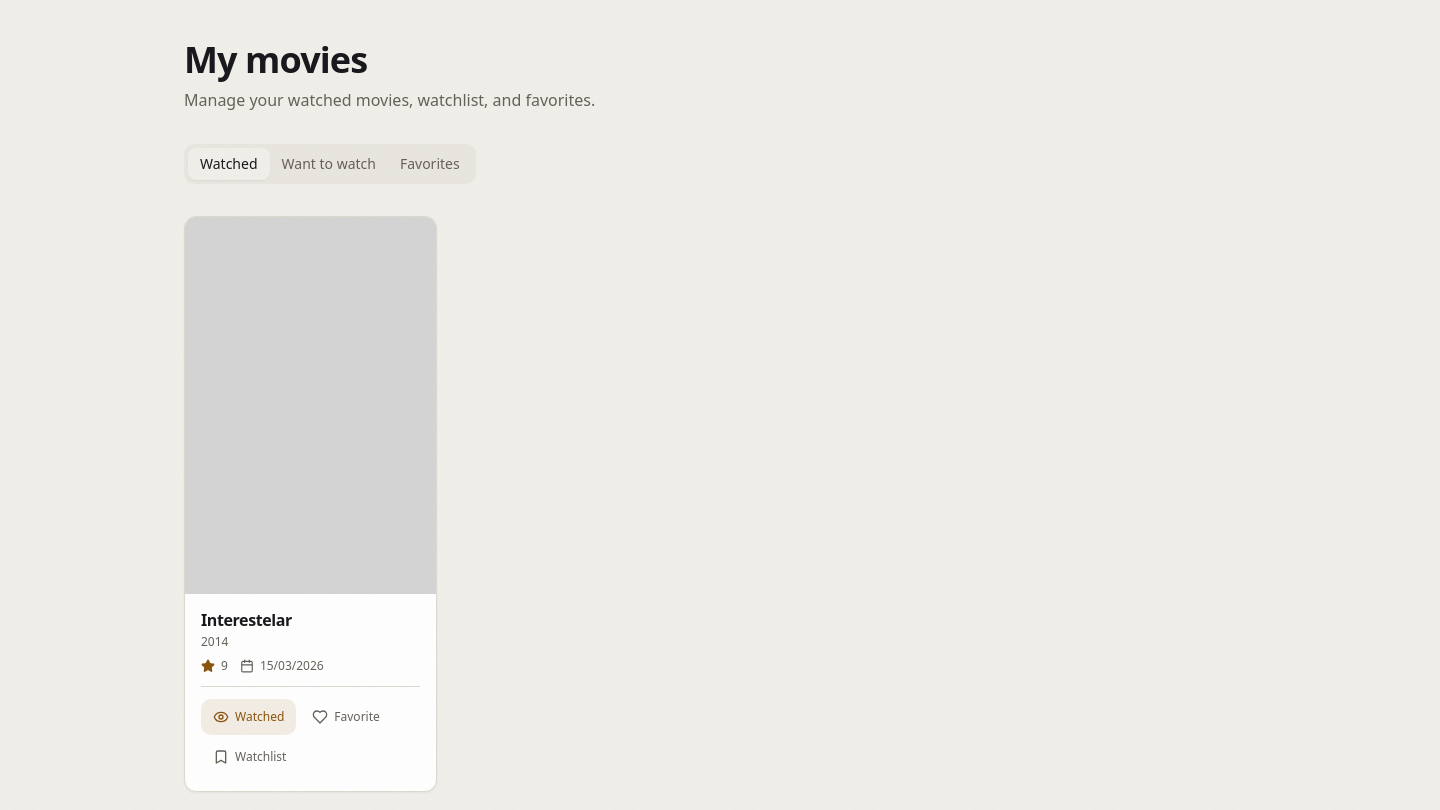
MyMoviesPage › usuário autenticado › REQ-5 edge: deletar na aba Assistidos mantém o card e mostra Undo
The width and height of the screenshot is (1440, 810).
Expected: the text "Interestelar" is shown, [201,608,292,630]
Click the button "Watched" at (249, 716), box [201,698,296,734]
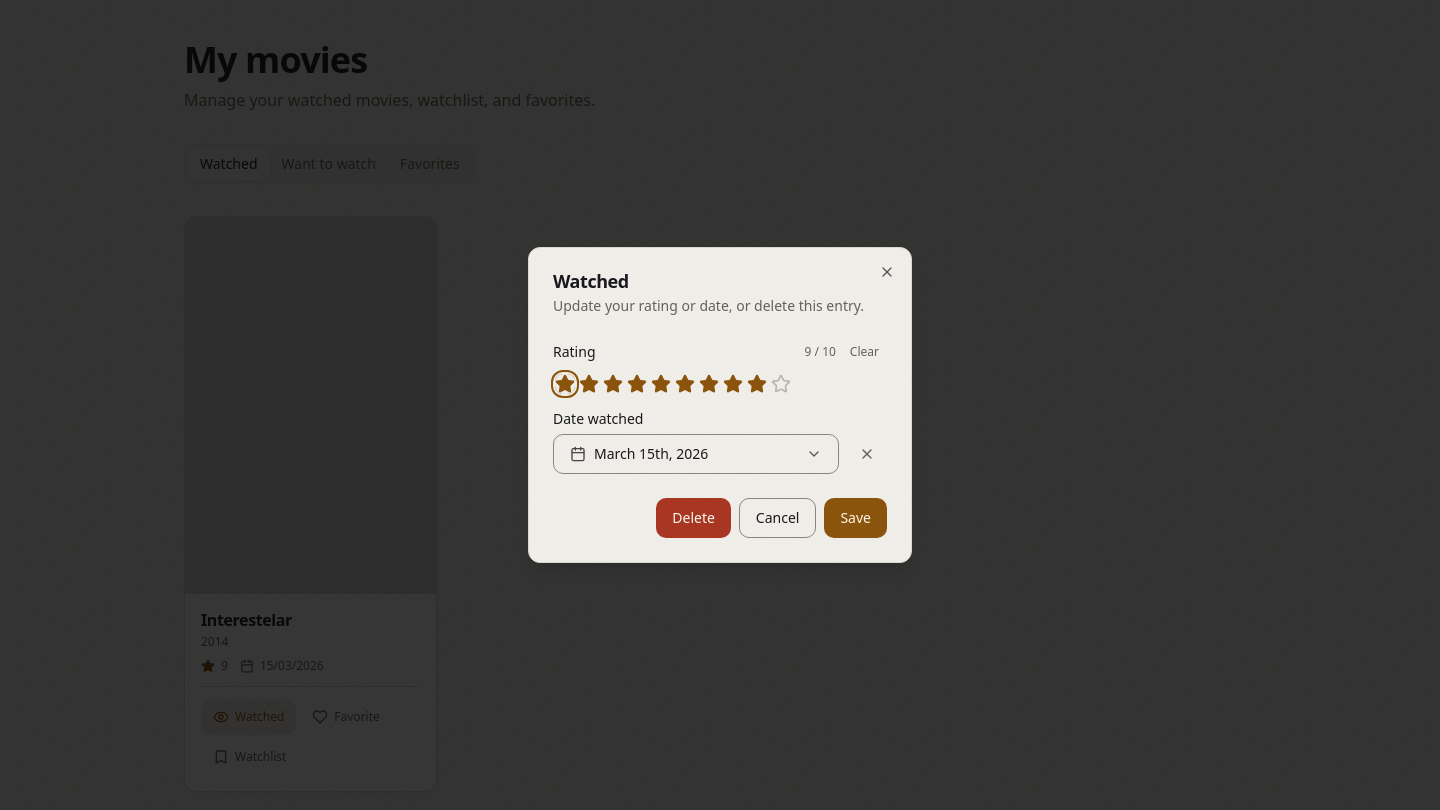
Click the button "Delete" at (694, 518), box [656,498,731,538]
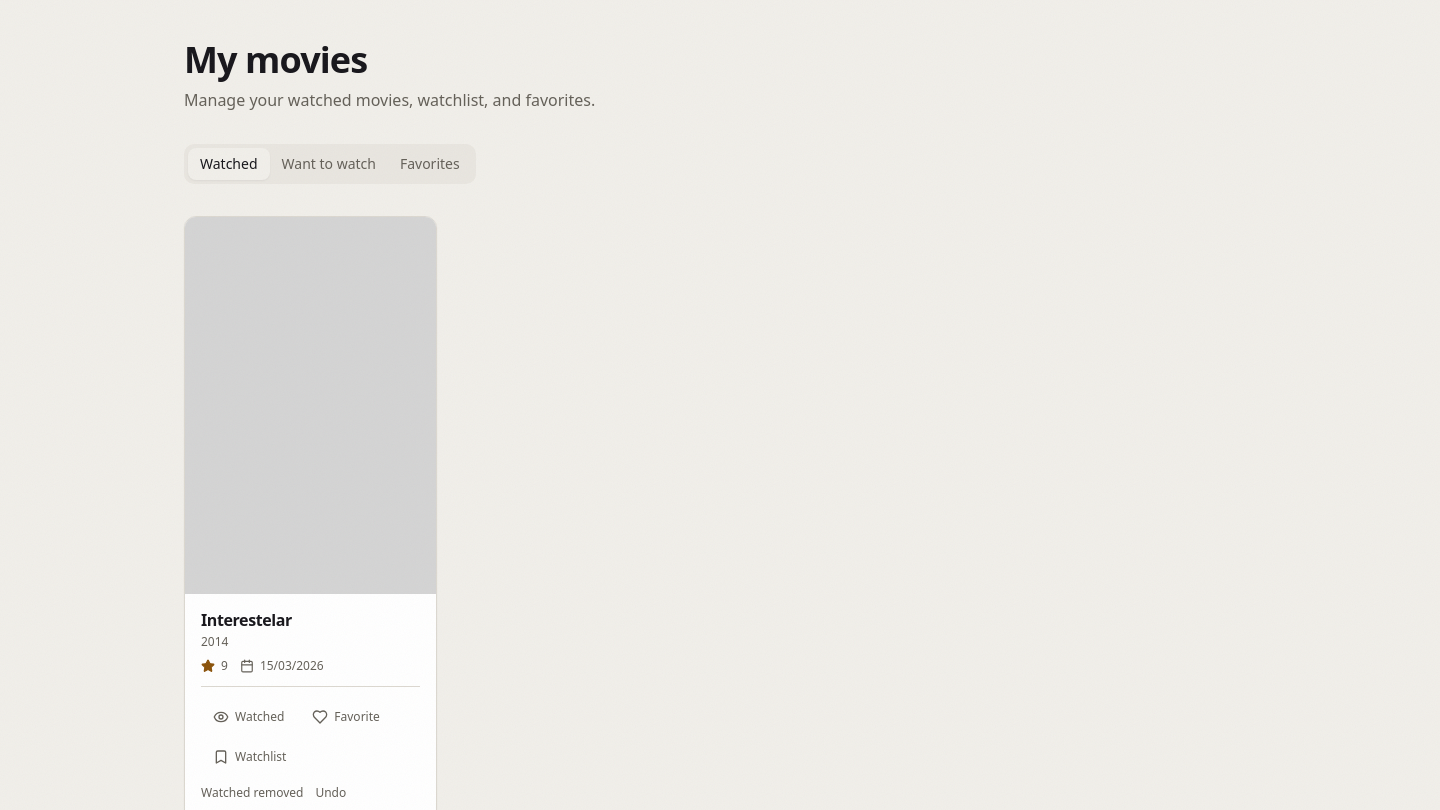
Expected: the text "Interestelar" is shown, [201,608,292,630]
Expected: the text "Watched removed" is shown, [201,784,303,800]
Click the button "Undo" at (331, 792), box [307,778,354,806]
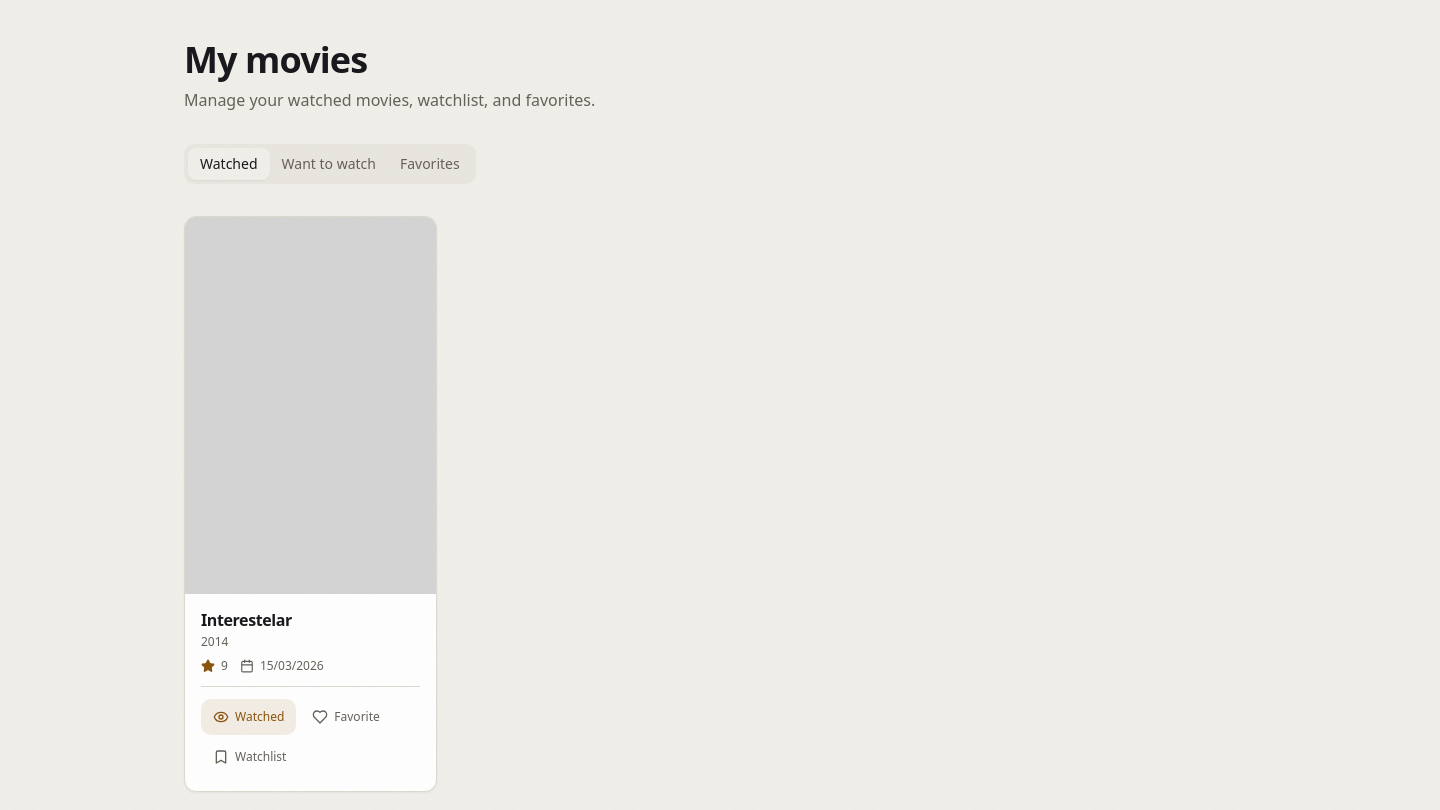
Expected: the text "Watched removed" is gone
